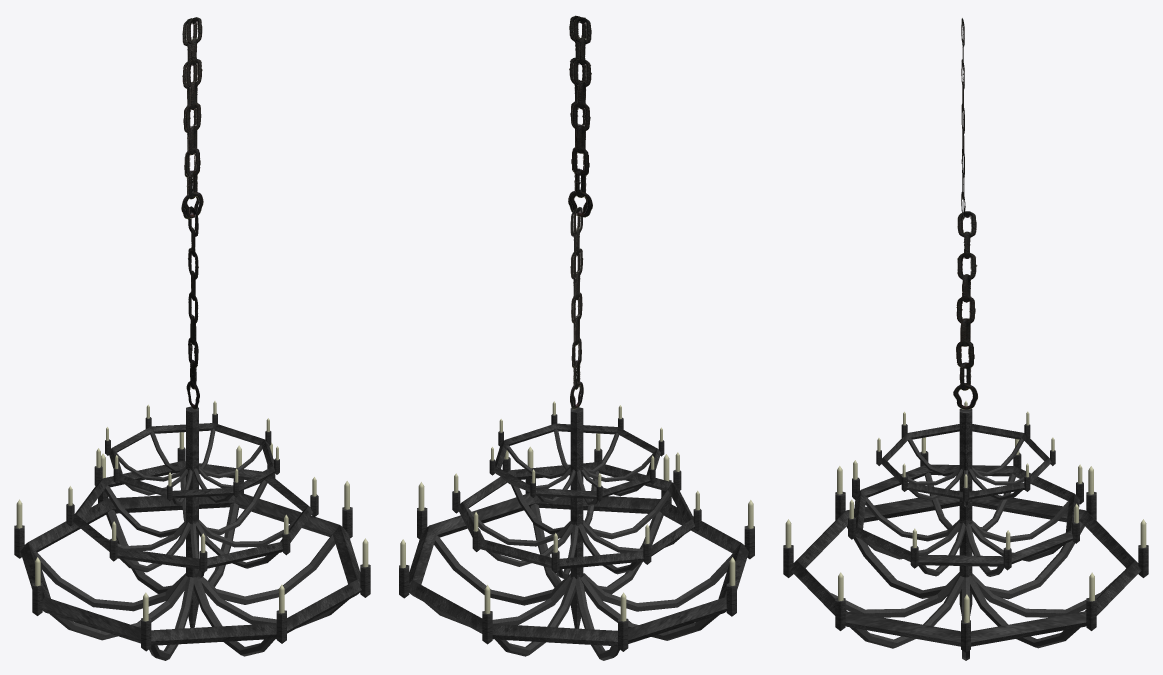
The model's file is Chandelier.fbx.
3 views of the same model, side by side, from view 1: azimuth 30°, elevation 25°; view 2: azimuth 150°, elevation 25°; view 3: azimuth 270°, elevation 25° (orthographic).
Parts seen in each view (by area): view 1: Chandelier; view 2: Chandelier; view 3: Chandelier.
Part boxes in pixels (x1,y1,x2,y2): Chandelier: (14, 17, 370, 660); Chandelier: (399, 15, 754, 660); Chandelier: (783, 18, 1148, 660).
Bounding box in the file's own units: 17.27 × 32.1 × 17.19.
